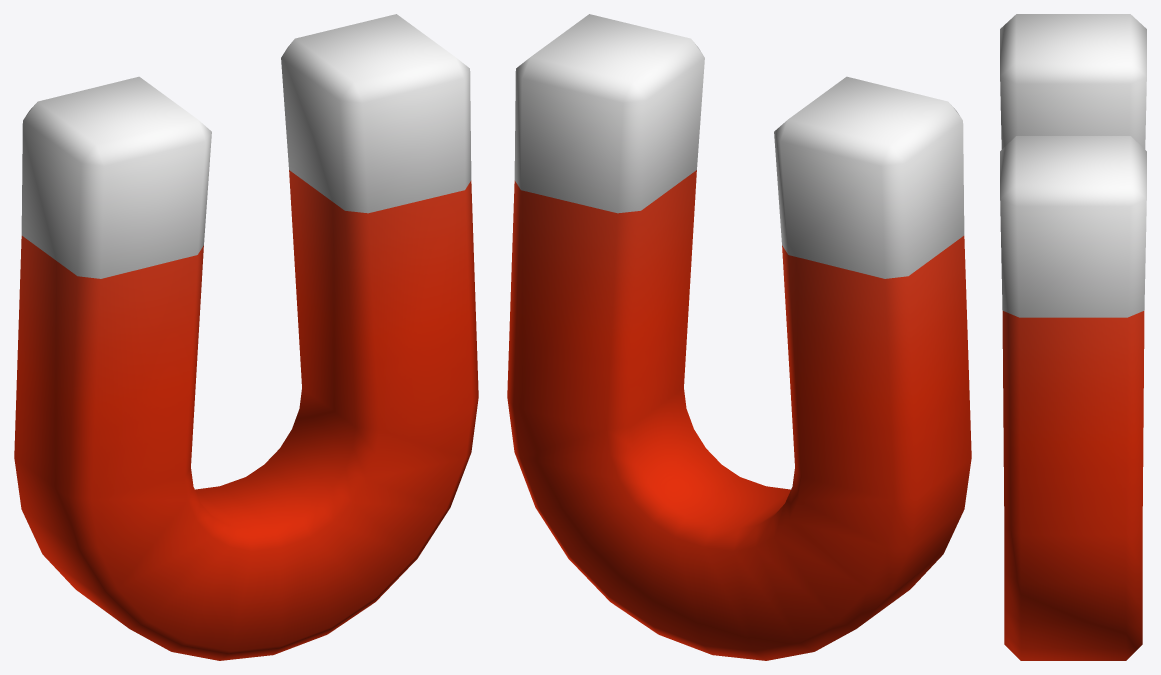
The model's file is Collectable_Magnet_01.fbx.
3 renders of one model, left to right at view 1: azimuth 30°, elevation 25°; view 2: azimuth 150°, elevation 25°; view 3: azimuth 270°, elevation 25°, orthographic. The views are drawn at different scales.
Visible parts, largest first — view 1: Collectable_Magnet_01; view 2: Collectable_Magnet_01; view 3: Collectable_Magnet_01.
Boxes of the visible parts, x1,y1,x2,y2 form: Collectable_Magnet_01: (14,14,478,660); Collectable_Magnet_01: (507,14,971,660); Collectable_Magnet_01: (1000,14,1146,660).
Bounding box in the file's own units: 55.61 × 72.02 × 17.73.
